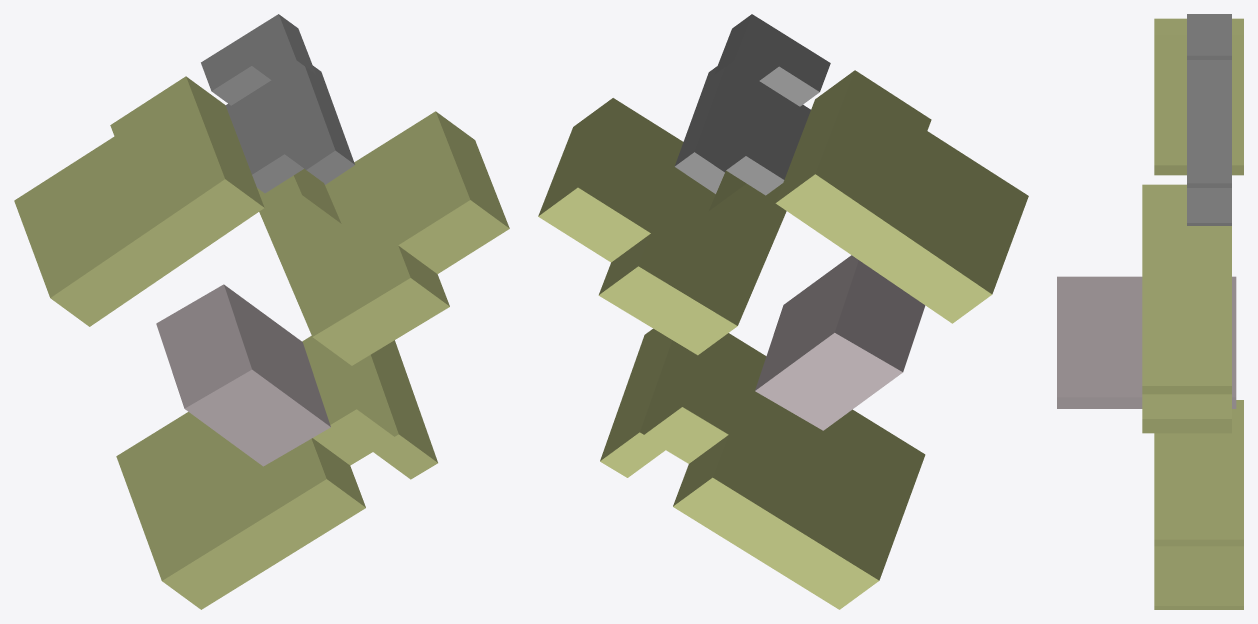
3 renders of one model, left to right at view 1: azimuth 30°, elevation 25°; view 2: azimuth 150°, elevation 25°; view 3: azimuth 270°, elevation 25°, orthographic. The views are drawn at different scales.
Visible parts, largest first — view 1: 0_1_0_2_0_2_0_3_0; view 2: 0_1_0_2_0_2_0_3_0; view 3: 0_1_0_2_0_2_0_3_0.
Part boxes in pixels (x1,y1,x2,y2): 0_1_0_2_0_2_0_3_0: (14, 14, 509, 609); 0_1_0_2_0_2_0_3_0: (538, 14, 1028, 609); 0_1_0_2_0_2_0_3_0: (1057, 14, 1243, 609).
Size of the model in its own units: 39.6 by 45.61 by 12.5.
